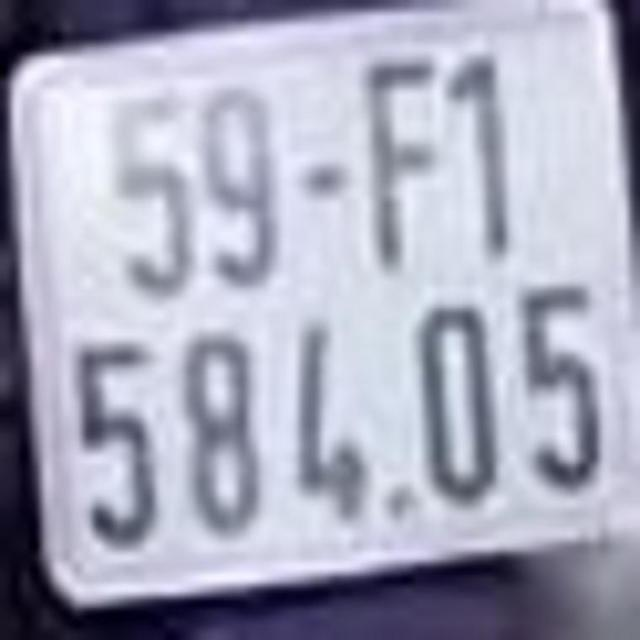0: (415, 292, 504, 506)
1: (447, 43, 526, 263)
4: (291, 315, 372, 526)
5: (518, 275, 610, 496), (71, 336, 161, 550), (109, 88, 196, 298)
8: (183, 328, 262, 536)
9: (203, 81, 279, 292)
F: (362, 52, 442, 273)
